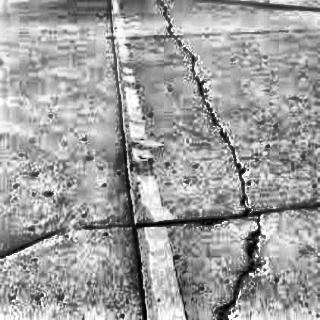crack: (156, 0, 262, 320), (2, 203, 320, 264), (106, 0, 145, 320)
